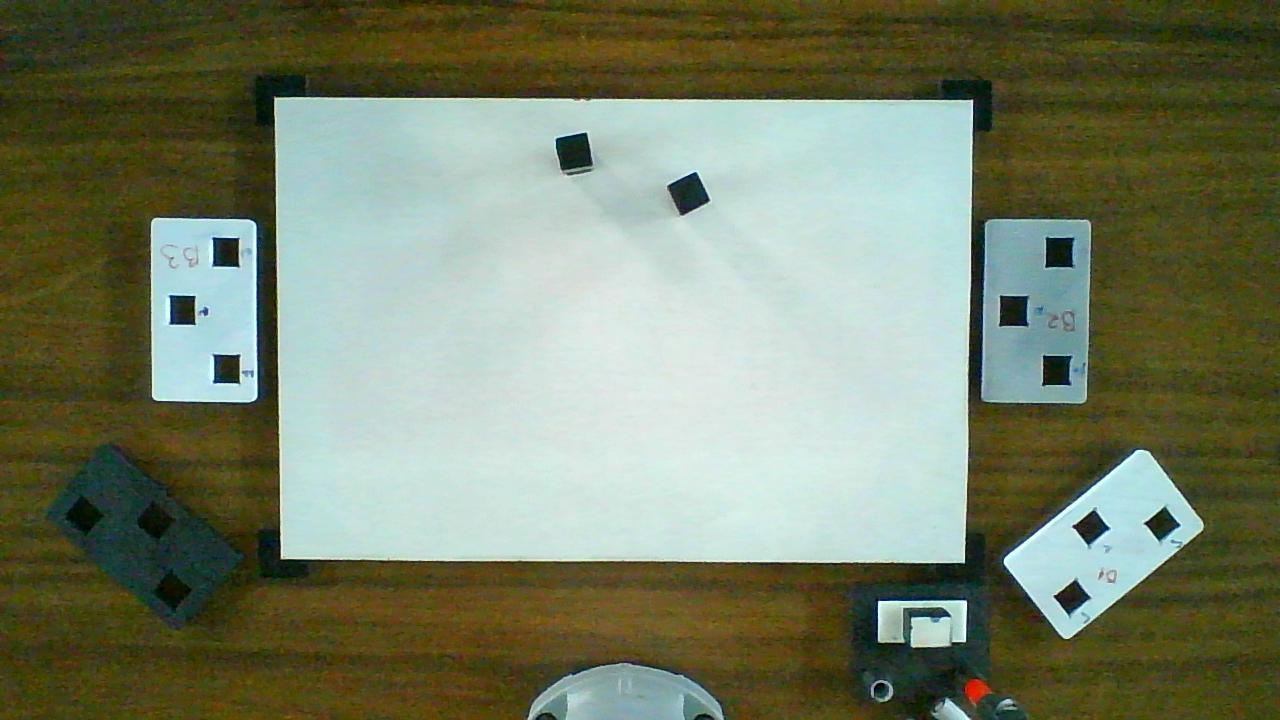peca_preta: (669, 173, 709, 214), (556, 135, 590, 169)
